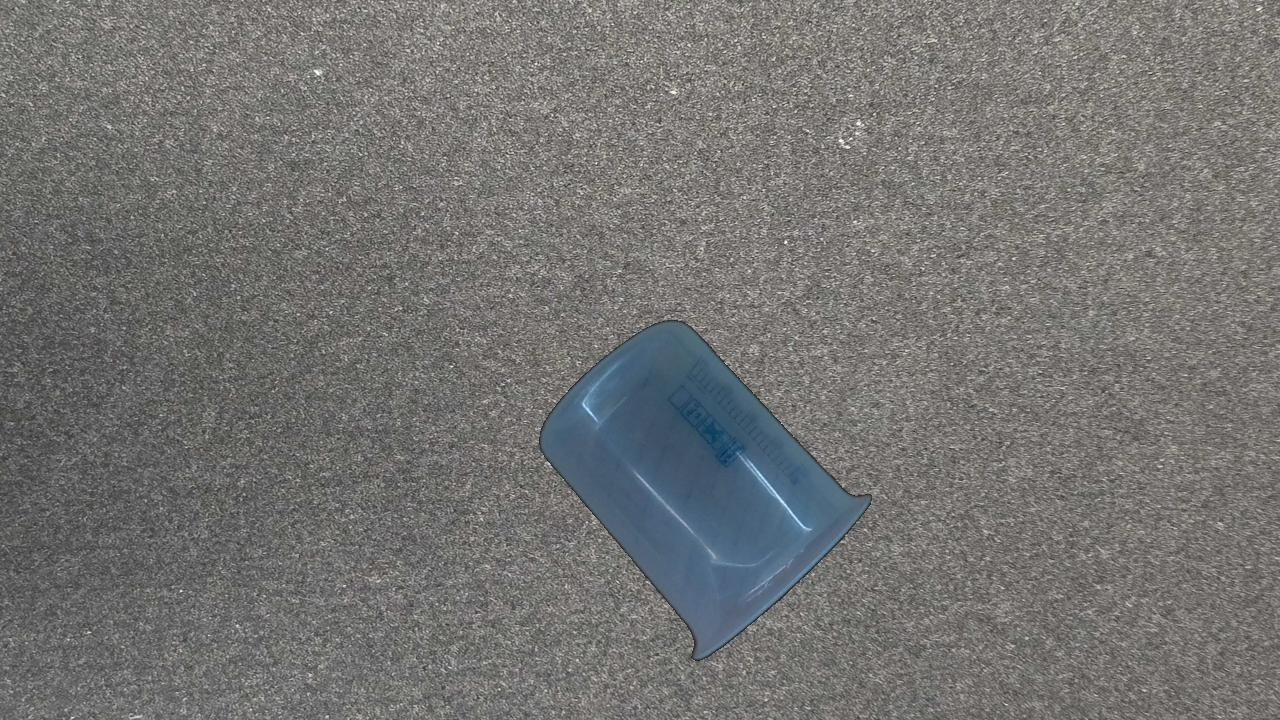cup: (538, 318, 875, 663)
